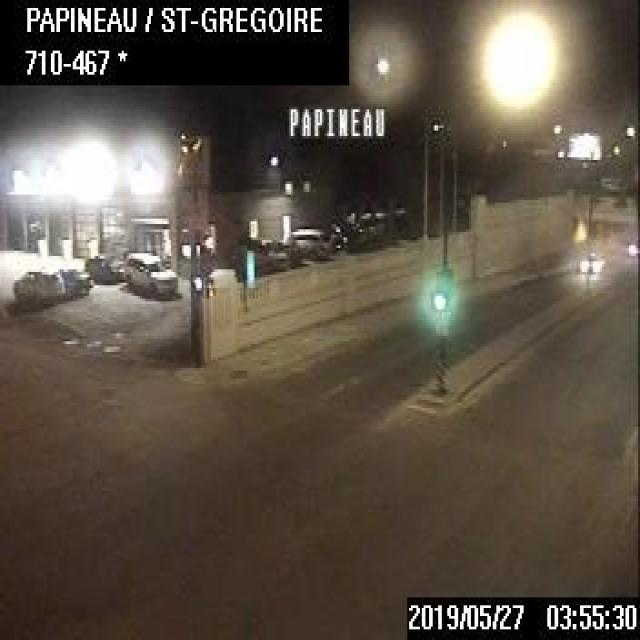vehicle: (124, 247, 178, 301), (12, 268, 64, 304), (287, 223, 328, 260), (84, 251, 125, 283), (56, 264, 89, 297), (578, 250, 600, 276), (624, 235, 638, 256)
